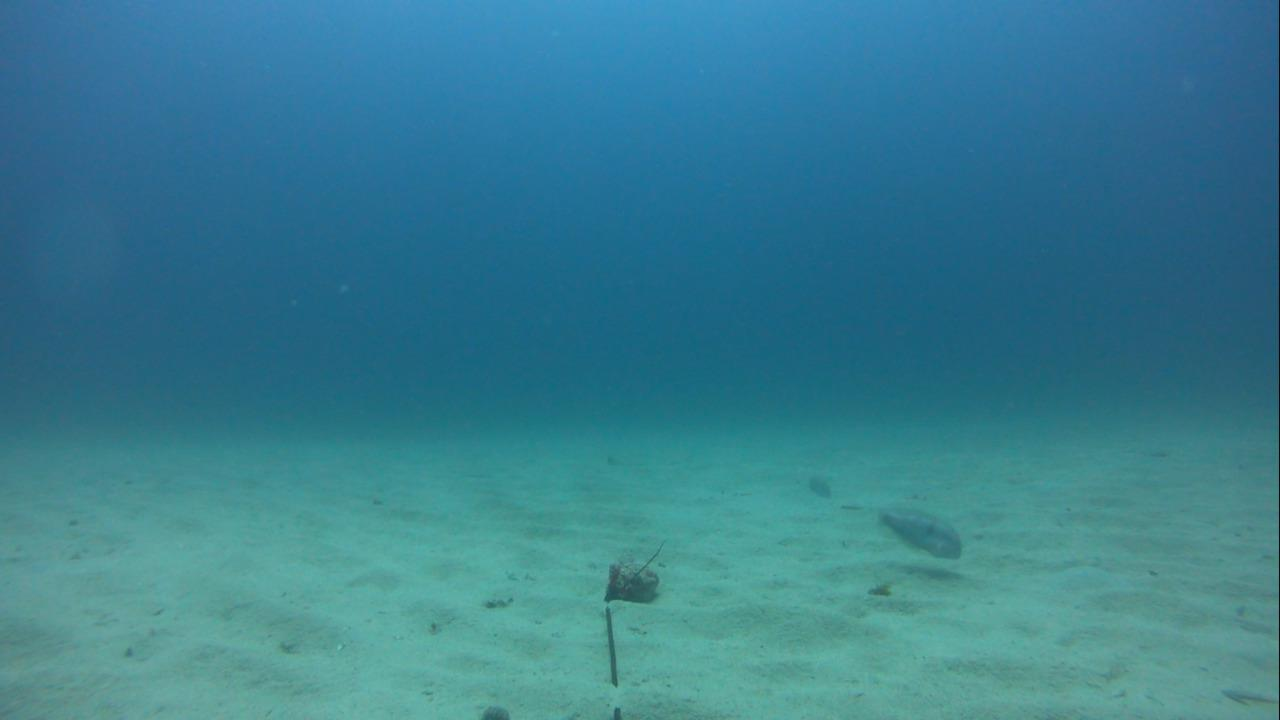raor: (858, 503, 977, 564)
